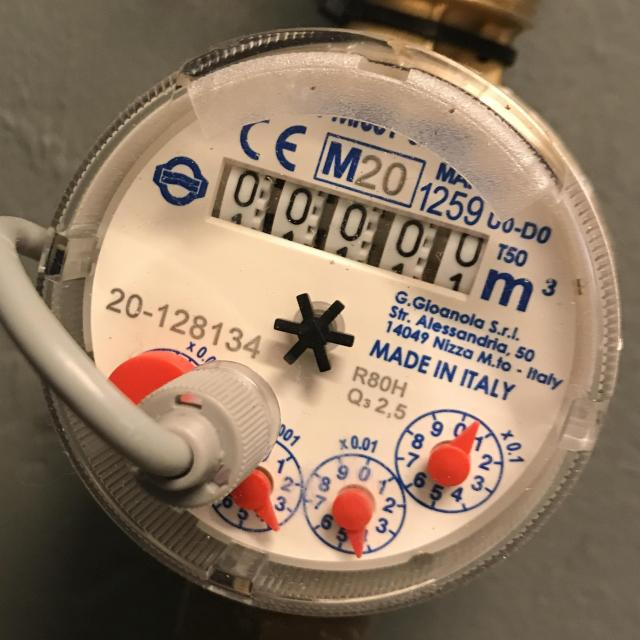gaz_meter: (43, 37, 616, 594)
indication: (208, 159, 489, 294)
